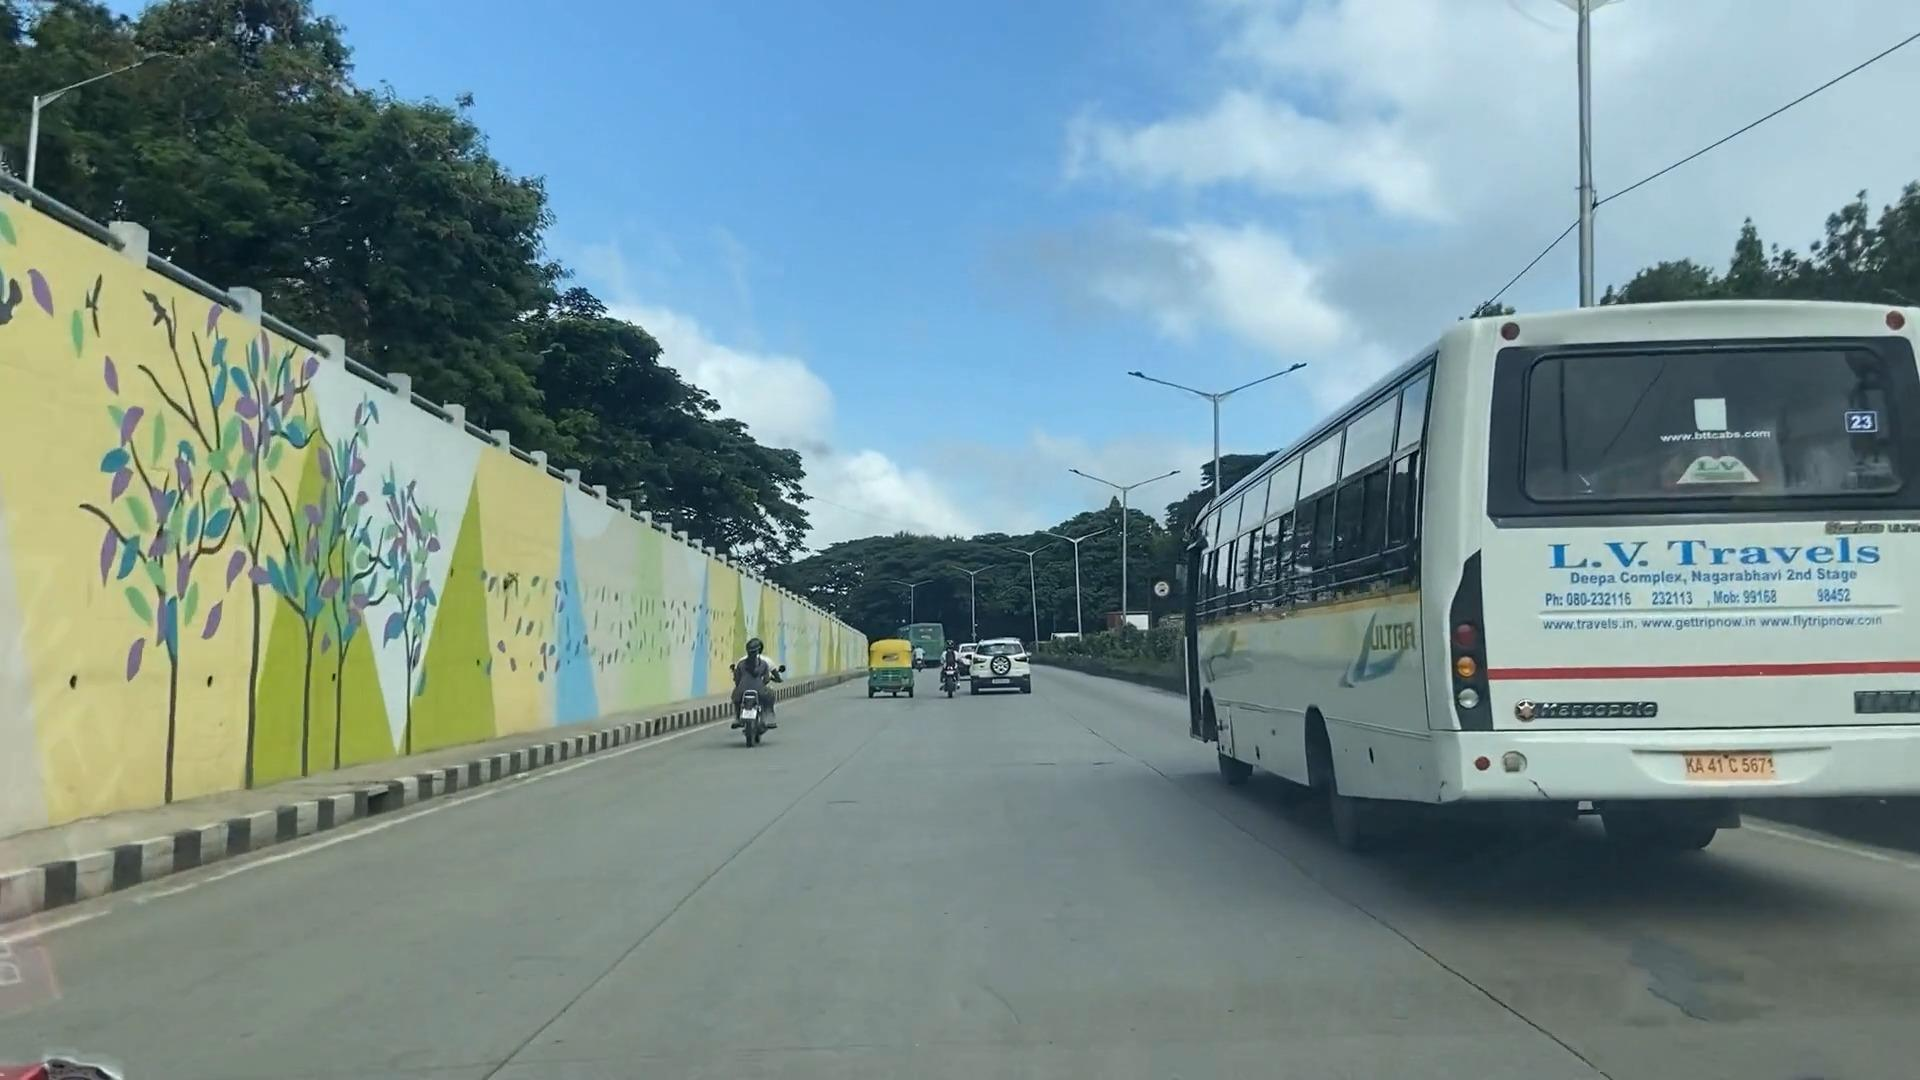HMV: (1192, 301, 1920, 823)
LMV: (729, 633, 791, 746)
